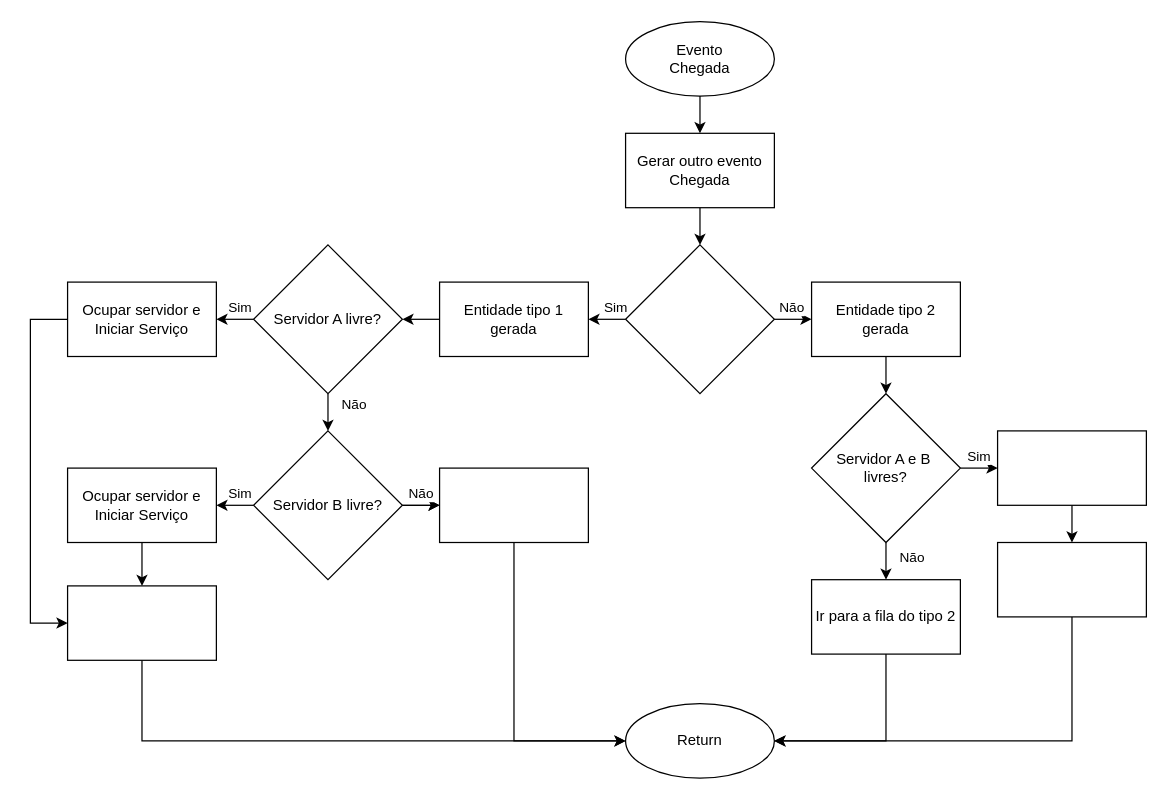
Image size: 1168x800. Some labels were removed from this diagram. Here are the shapes that lost their labels. From the top down, the centre of each, then its label:
(699,319): random < P_Tipo1 ?
(1071,467): Ocupar servidores e Iniciar Serviço
(513,504): Ir para a fila do tipo 1
(1071,579): Gerar evento Partida do tipo 2
(141,622): Gerar evento Partida do tipo 1
